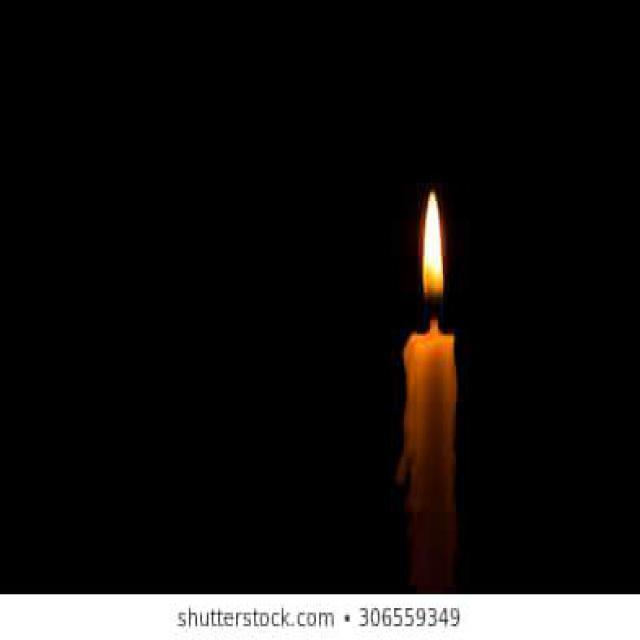Fire: (422, 190, 444, 320)
